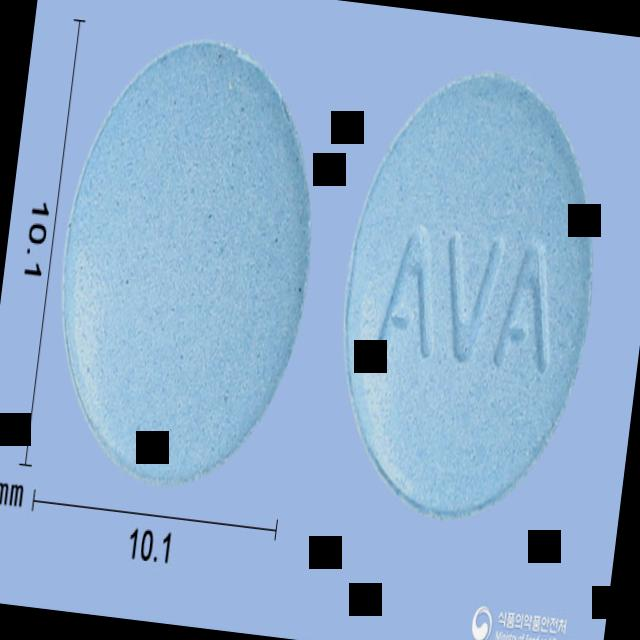Aclova 400mg: (320, 56, 618, 532)
